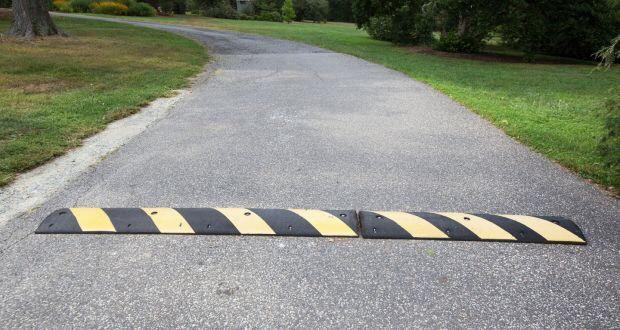speedbreaker: (30, 196, 604, 254)
